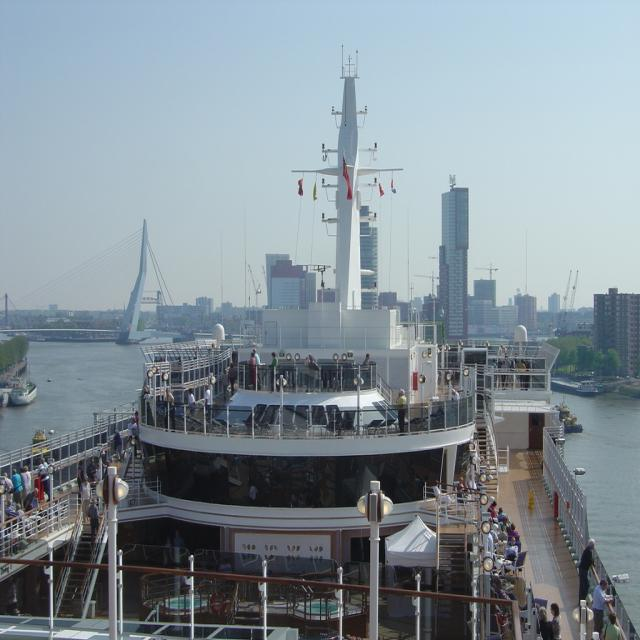Boat: (91, 280, 500, 501), (27, 428, 58, 472), (10, 366, 38, 405), (557, 393, 581, 437), (576, 379, 600, 394), (0, 387, 11, 408)
